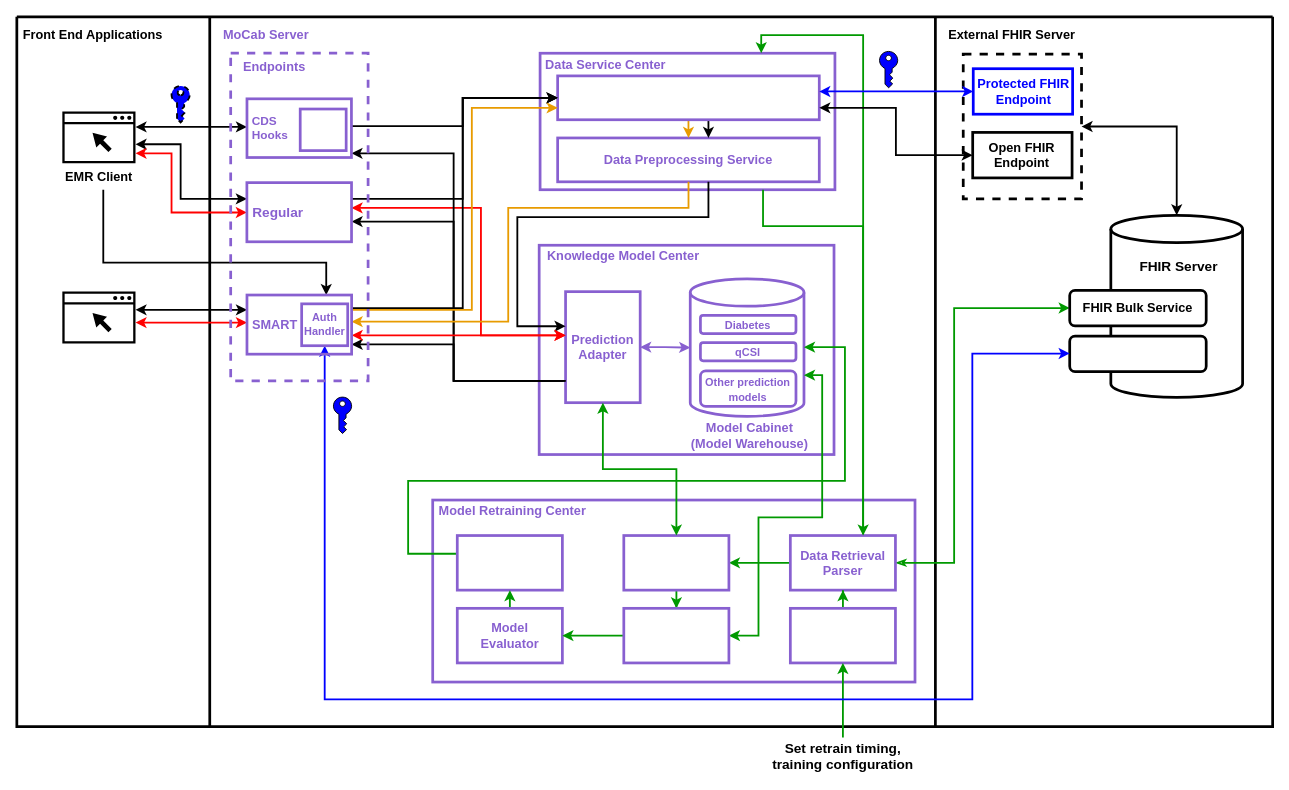
Some shapes in this 1289 by 790 pixel diagram are drawn without their labels. The shapes that lost their labels are listed below. From the top down, each one's centre as x and y in pixels, then its label:
pixel 688 97: Data Retrieving Service
pixel 322 129: Hook Handler
pixel 98 317: MoCab SMART App
pixel 1137 353: FHIR Auth Service
pixel 509 562: Model Register
pixel 676 562: Data Transformation Bundler
pixel 676 635: Model Trainer
pixel 842 635: Scheduler
